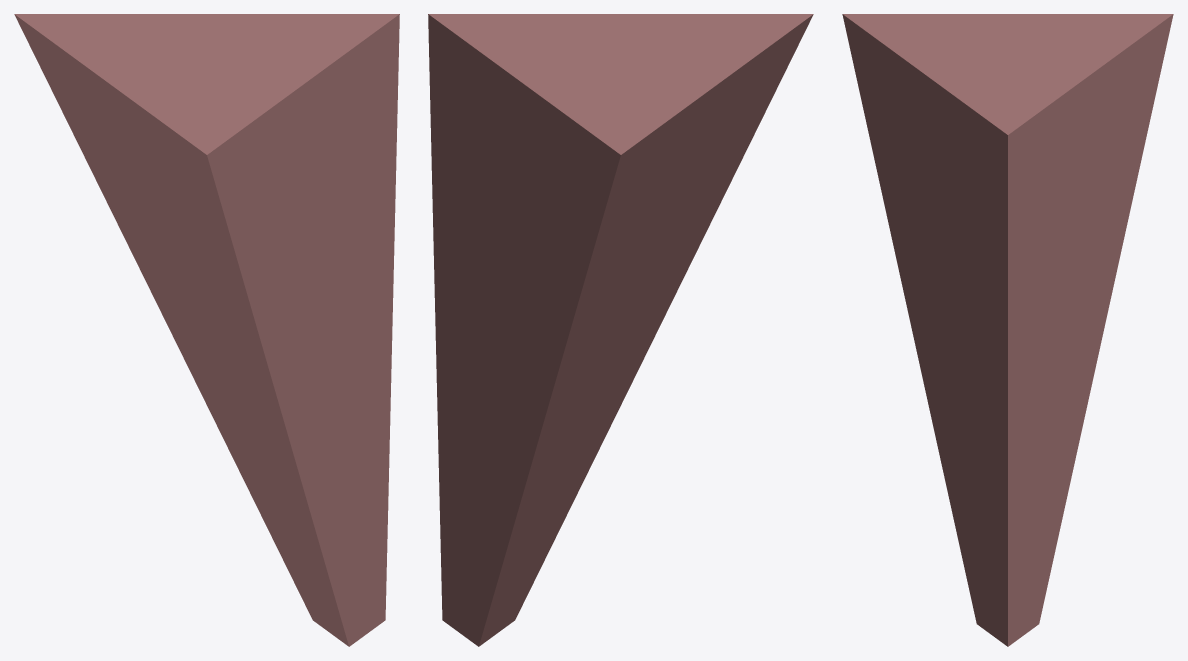
Rendered from prism.fbx.
3 renders of one model, left to right at view 1: azimuth 30°, elevation 25°; view 2: azimuth 150°, elevation 25°; view 3: azimuth 270°, elevation 25°, orthographic. The views are drawn at different scales.
Visible parts, largest first — view 1: Prism; view 2: Prism; view 3: Prism.
Boxes of the visible parts, x1,y1,x2,y2 form: Prism: (14,14,399,646); Prism: (428,14,813,646); Prism: (842,14,1173,646).
Size of the model in its own units: 2.49 by 4.97 by 2.88.
